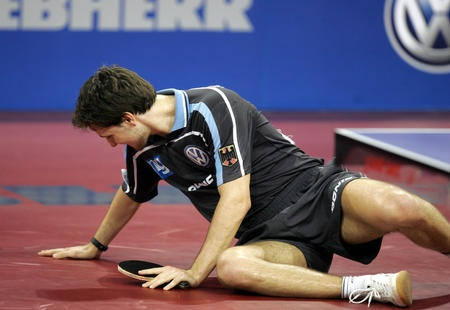falling: (33, 54, 450, 310)
